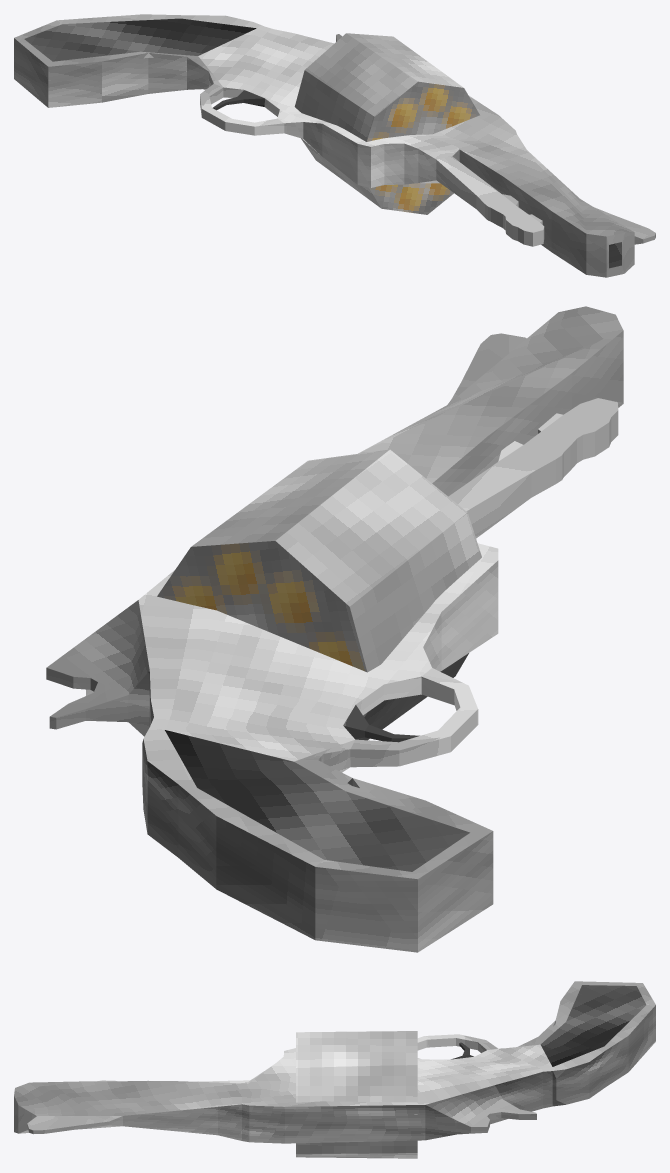
File: requiem.glb
3 renders of one model, top to bottom at view 1: azimuth 30°, elevation 25°; view 2: azimuth 150°, elevation 25°; view 3: azimuth 270°, elevation 25°, orthographic. The views are drawn at different scales.
Visible parts, largest first — view 1: Куб, Циліндр.001; view 2: Куб, Циліндр.001; view 3: Куб, Циліндр.001.
Part boxes in pixels (bbox=[...]): Куб: bbox=[14, 14, 655, 277]; Циліндр.001: bbox=[294, 33, 479, 214]; Куб: bbox=[46, 306, 623, 952]; Циліндр.001: bbox=[157, 449, 481, 740]; Куб: bbox=[14, 981, 655, 1143]; Циліндр.001: bbox=[296, 1031, 417, 1158].
Size of the model in its own units: 0.4133 by 0.1759 by 0.8451.
Materials: 2 (2 with a texture image).
